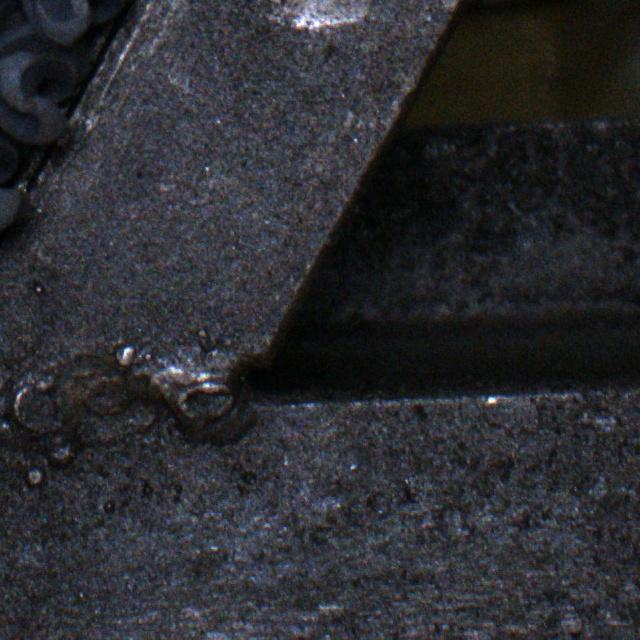tool_b: (0, 0, 79, 143)
